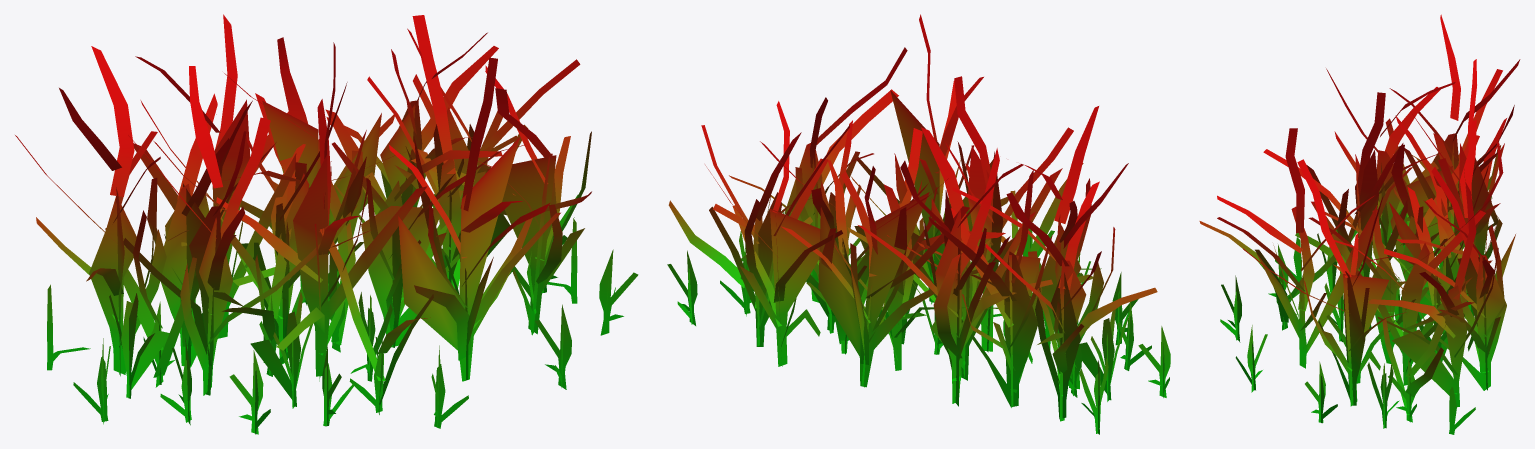
File: Var3_LOD1.fbx
3 views of the same model, side by side, from view 1: azimuth 30°, elevation 25°; view 2: azimuth 150°, elevation 25°; view 3: azimuth 270°, elevation 25° (orthographic). The views are drawn at different scales.
Visible parts, largest first — view 1: _7wou_Var3_LOD1; view 2: _7wou_Var3_LOD1; view 3: _7wou_Var3_LOD1.
Boxes of the visible parts, x1=… form: _7wou_Var3_LOD1: x1=15, y1=14, x2=638, y2=434; _7wou_Var3_LOD1: x1=667, y1=14, x2=1170, y2=434; _7wou_Var3_LOD1: x1=1199, y1=14, x2=1520, y2=434.
Bounding box in the file's own units: 43.58 × 25.24 × 28.7.
